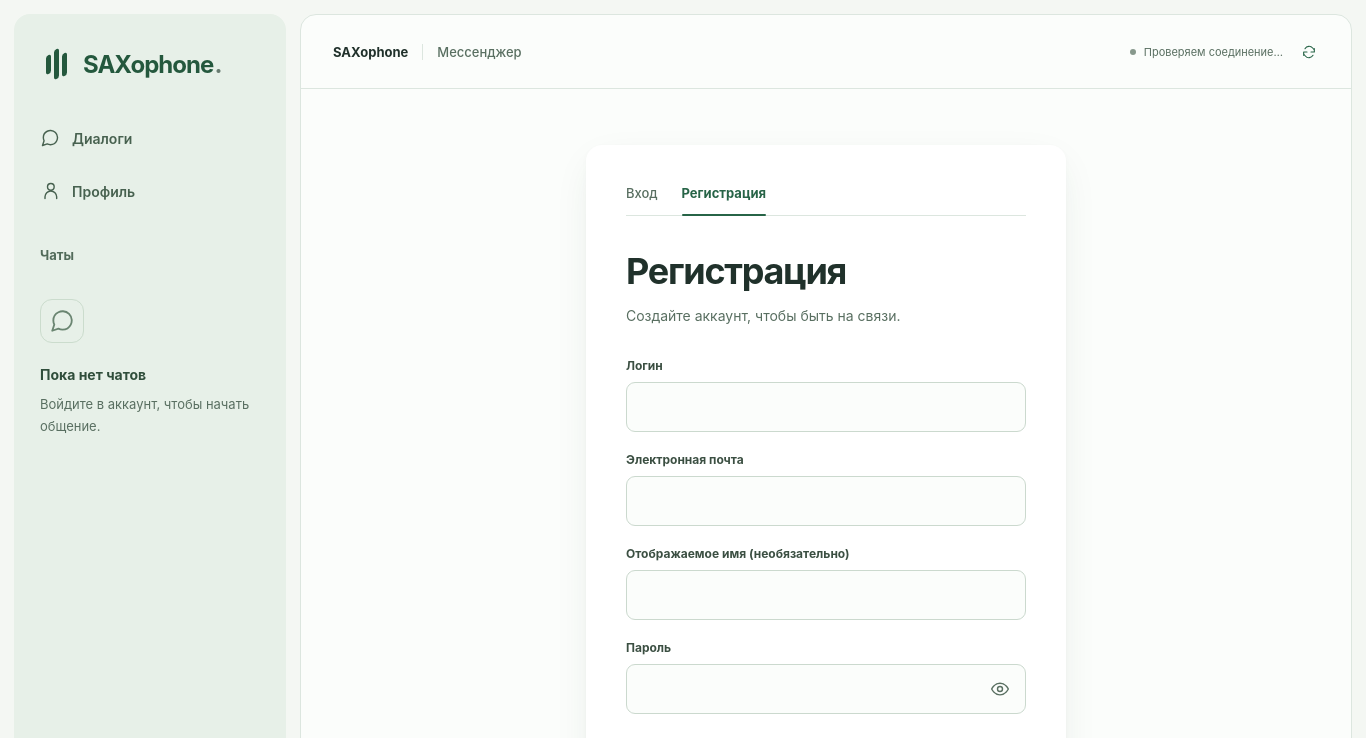
Test: регистрация › регистрирует и предлагает вход без автоматической выдачи сессии
The width and height of the screenshot is (1366, 738).
Type "alice" into the field labelled "Логин".
click(826, 407); type("alice")  # box [626,382,1026,432]
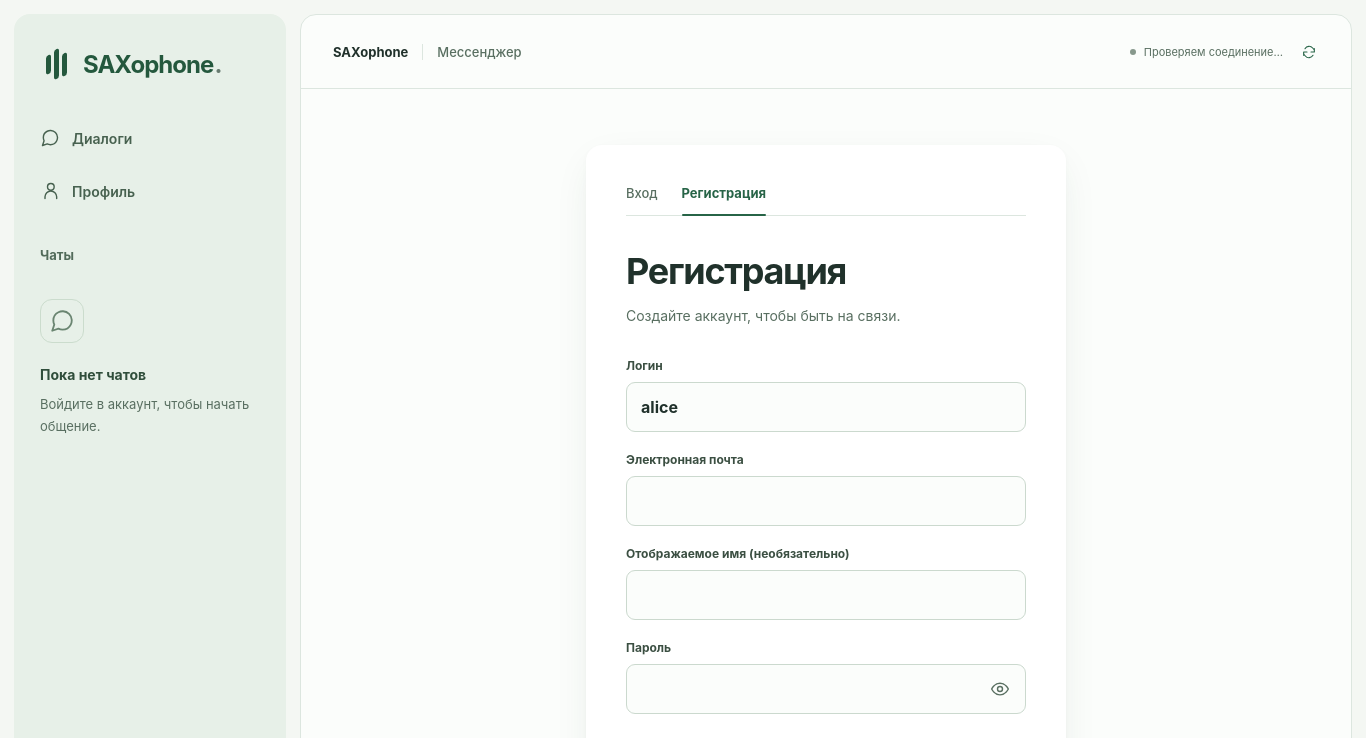
Type "alice@example.test" into the field labelled "Электронная почта".
click(826, 501); type("alice@example.test")  # box [626,476,1026,526]
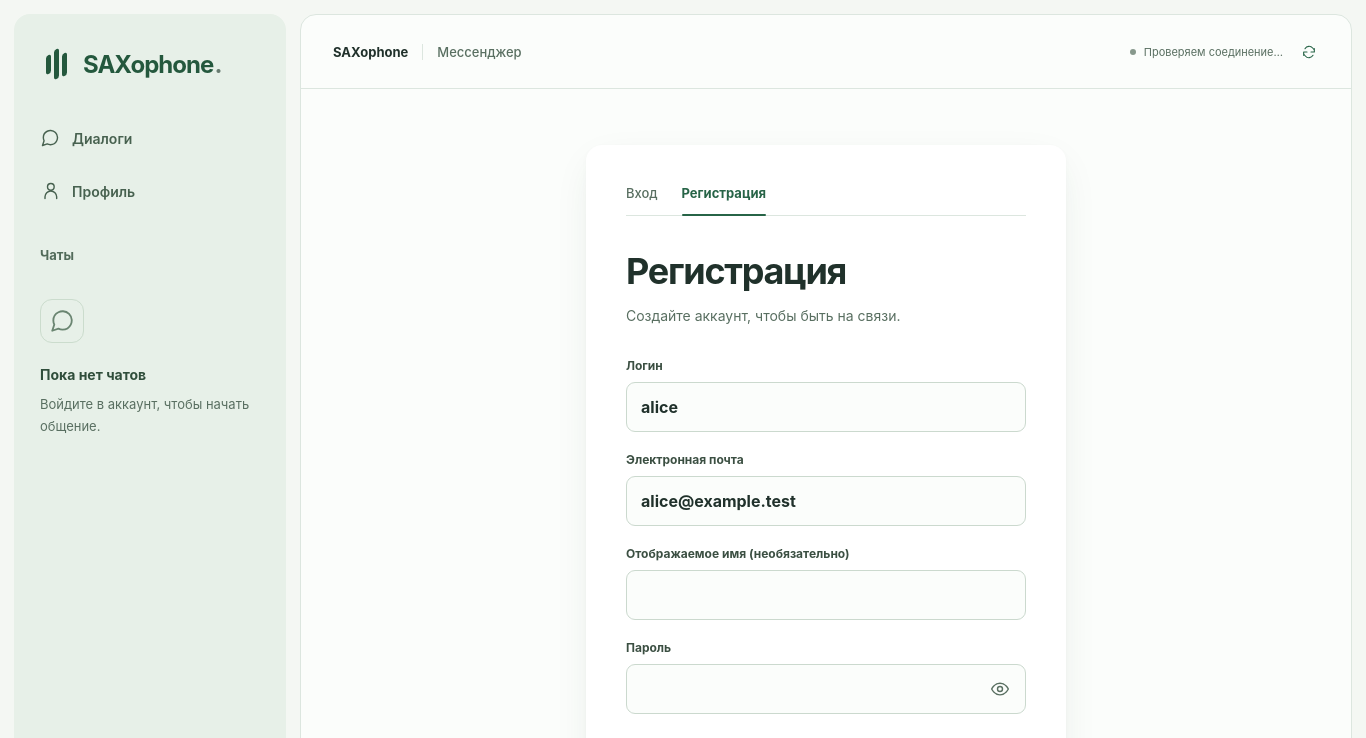
Type "Valid-password-123" into the password field labelled "Пароль".
click(826, 689); type("Valid-password-123")  # box [626,664,1026,714]
(page scrolled)
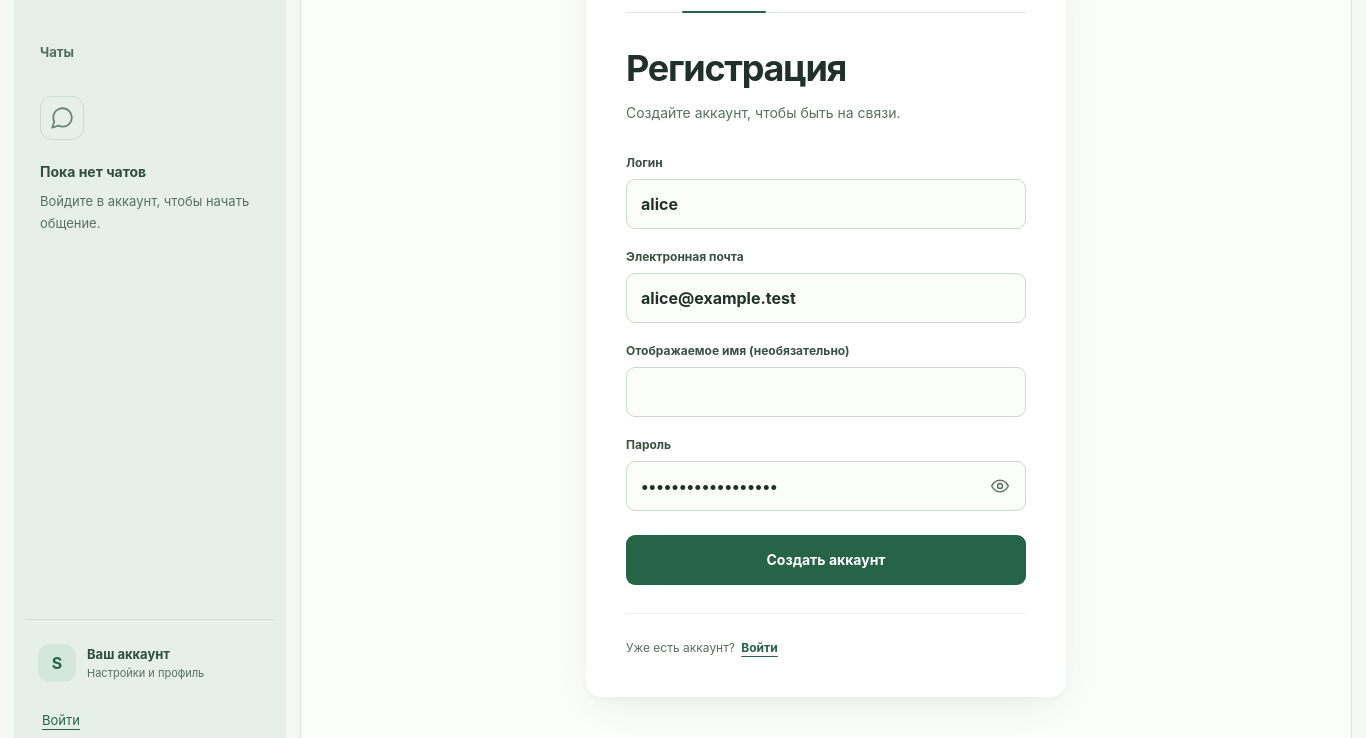
Click the button "Создать аккаунт".
click(826, 560)  # box [626,535,1026,585]
(page scrolled)
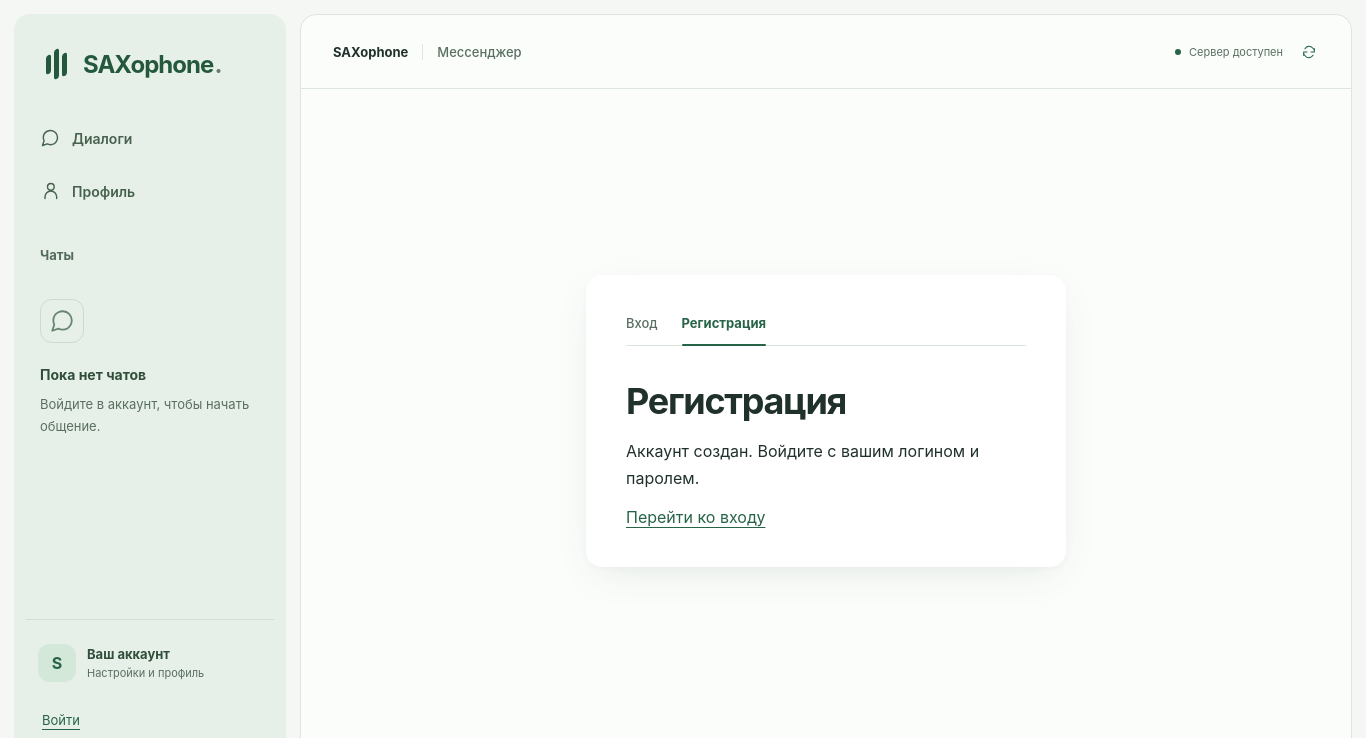
Now the text "Аккаунт создан. Войдите с вашим логином и паролем." is shown, box [626,438,1026,491]
